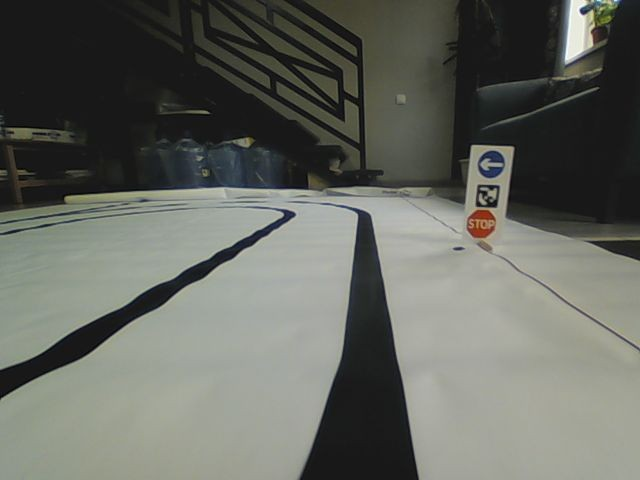Stop: (465, 208, 497, 238)
